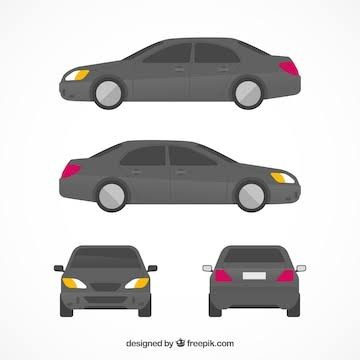car: (58, 242, 152, 319), (205, 245, 301, 318)
